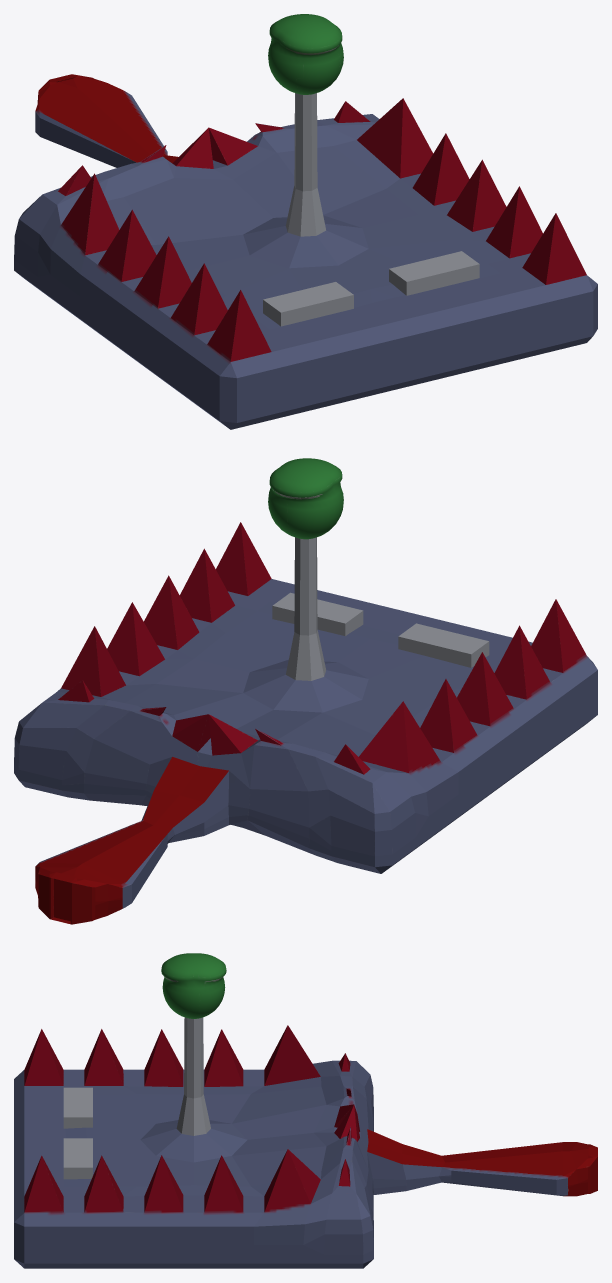
Rendered from Handle.fbx.
The picture shows the model from 3 angles, top to bottom: view 1: azimuth 30°, elevation 25°; view 2: azimuth 150°, elevation 25°; view 3: azimuth 270°, elevation 25°; orthographic projection. The views are drawn at different scales.
Visible parts, largest first — view 1: Sphere.001; view 2: Sphere.001; view 3: Sphere.001.
Part boxes in pixels (left/top/right/bottom): Sphere.001: left=14, top=14, right=597, bottom=429; Sphere.001: left=14, top=458, right=597, bottom=924; Sphere.001: left=14, top=953, right=597, bottom=1268.
Size of the model in its own units: 53.54 by 39.19 by 86.89.
Materials: 1 (1 with a texture image).
